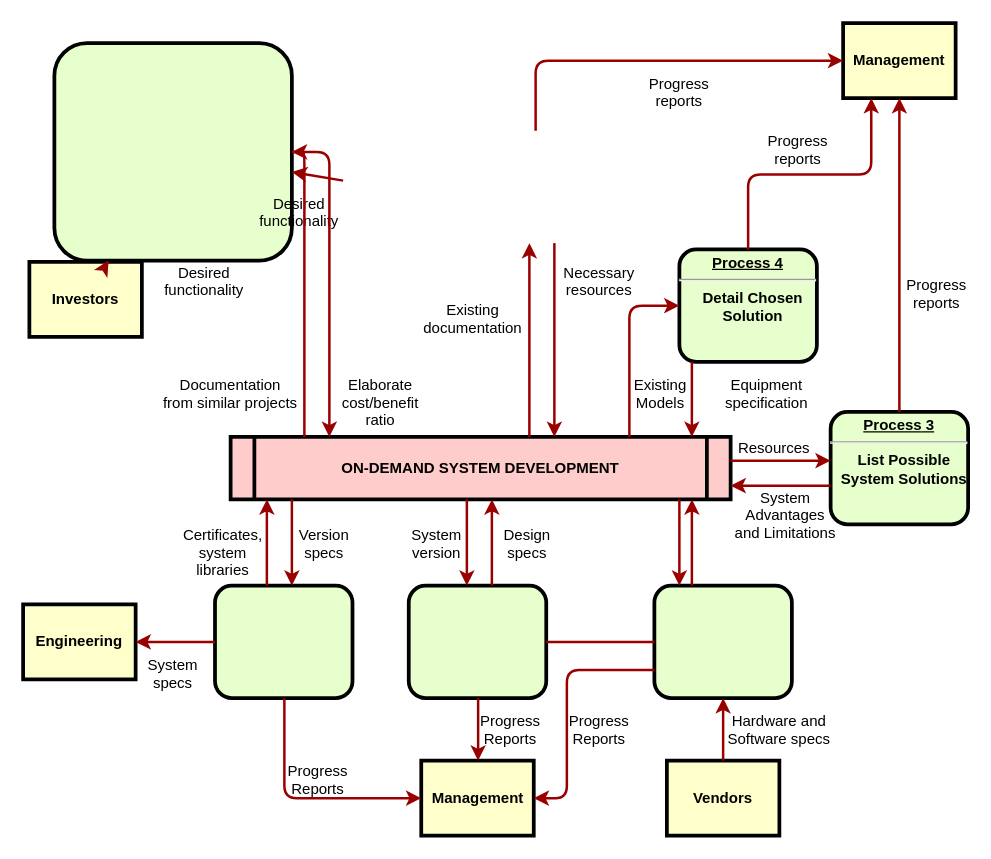
Image size: 991x859. Some labels were removed from this diagram. The centre of each missing label's shape, as x and y in pixels:
"Process 1 System Study Preparation" goes at [172,151].
"Process 5 New System Design" goes at [722,641].
"Process 6 New System Construction" goes at [283,641].
"Process 7 New System Startup and Testing" goes at [477,641].
